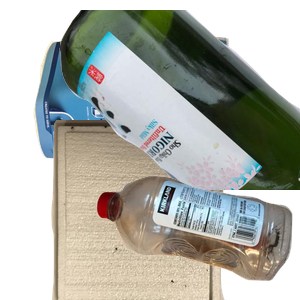glass: (60, 10, 300, 190)
paper: (31, 34, 252, 205)
plastic: (93, 173, 300, 300)
trash: (49, 120, 269, 300)
